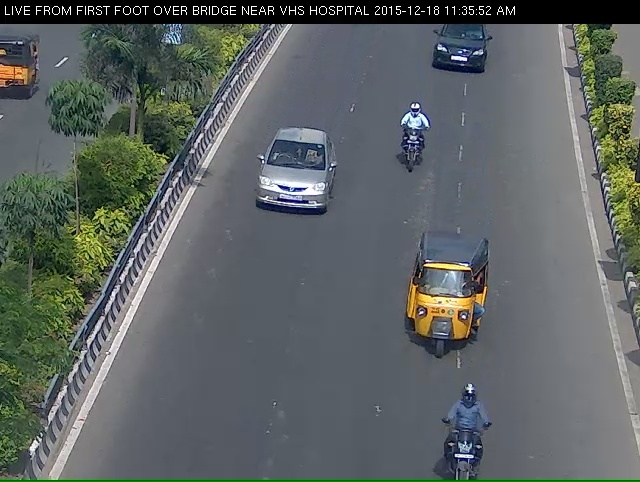Auto: (398, 252, 499, 377)
Car: (244, 137, 336, 247), (431, 22, 502, 92)
Person: (435, 404, 492, 481), (387, 110, 434, 181)
